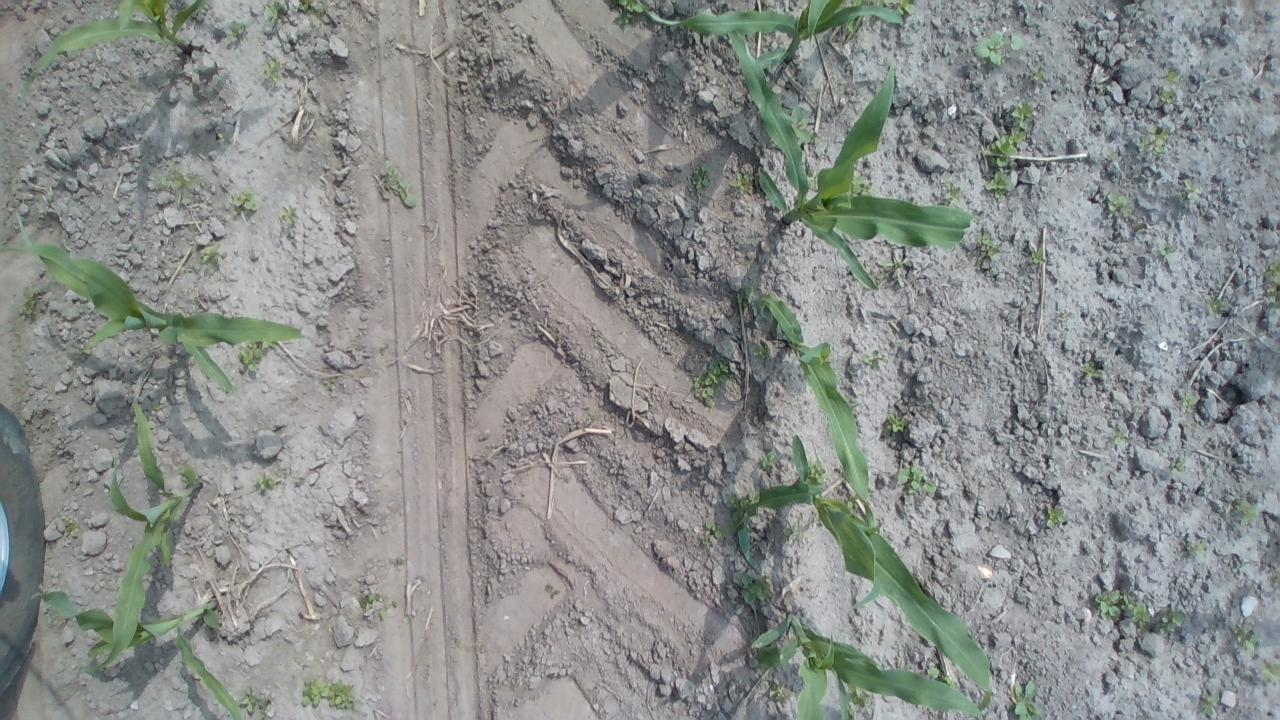Maize: (737, 435, 992, 713), (728, 31, 982, 292), (0, 207, 308, 394), (76, 400, 204, 677), (752, 294, 878, 530), (29, 586, 248, 720), (750, 612, 983, 720), (14, 1, 209, 108), (634, 0, 904, 66)
Weeds: (151, 157, 204, 212), (376, 160, 419, 207), (299, 676, 357, 710), (970, 30, 1024, 66), (690, 357, 729, 399), (1006, 678, 1040, 720), (894, 463, 937, 496), (988, 132, 1026, 168), (1092, 584, 1124, 624), (876, 254, 910, 290), (230, 184, 262, 222), (1152, 605, 1186, 638), (1136, 120, 1168, 154), (607, 0, 642, 30), (976, 228, 1000, 268), (1008, 97, 1034, 133), (984, 170, 1014, 200), (701, 518, 730, 549), (1230, 496, 1262, 524), (741, 572, 769, 604), (1043, 500, 1070, 532), (1102, 188, 1132, 216), (17, 284, 39, 320), (729, 489, 756, 518), (792, 105, 814, 140), (262, 54, 286, 86), (1236, 624, 1260, 654), (782, 514, 805, 545), (262, 1, 288, 28), (768, 680, 794, 706), (223, 20, 251, 44), (1182, 536, 1210, 560), (883, 411, 912, 434), (252, 472, 277, 498), (860, 348, 889, 370), (1127, 600, 1151, 626), (239, 344, 261, 372), (237, 686, 259, 714), (690, 164, 711, 193), (1153, 240, 1176, 266), (927, 666, 956, 686), (278, 205, 302, 229), (1180, 179, 1202, 203), (379, 598, 398, 625), (1262, 656, 1280, 684), (1206, 295, 1227, 319), (944, 180, 964, 205), (808, 458, 828, 483), (729, 172, 751, 194), (1078, 360, 1100, 381), (60, 516, 80, 539), (202, 240, 222, 262), (853, 173, 873, 195), (1111, 422, 1130, 445), (1180, 392, 1200, 413), (359, 590, 378, 612), (1200, 690, 1216, 716), (848, 686, 866, 707), (258, 696, 275, 717), (760, 450, 776, 471), (736, 285, 751, 307), (1166, 68, 1182, 88), (1263, 262, 1280, 280), (310, 7, 326, 26), (1264, 279, 1280, 297), (1030, 248, 1046, 266), (1172, 456, 1186, 476), (1104, 144, 1120, 161), (894, 0, 912, 15), (753, 342, 768, 360), (1267, 569, 1280, 588), (1056, 309, 1074, 322), (1160, 88, 1174, 104), (1032, 68, 1046, 84), (216, 128, 228, 146), (322, 374, 334, 391), (1120, 595, 1134, 609), (149, 398, 161, 414), (586, 409, 598, 424), (932, 449, 946, 460), (299, 0, 311, 12), (810, 512, 820, 526), (847, 704, 855, 720), (294, 476, 306, 486), (1182, 420, 1194, 430), (394, 558, 406, 566), (402, 616, 411, 626), (262, 342, 276, 348), (1272, 299, 1280, 309)
